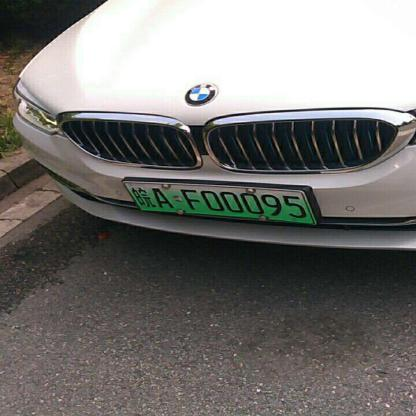lp: (122, 182, 315, 224)
